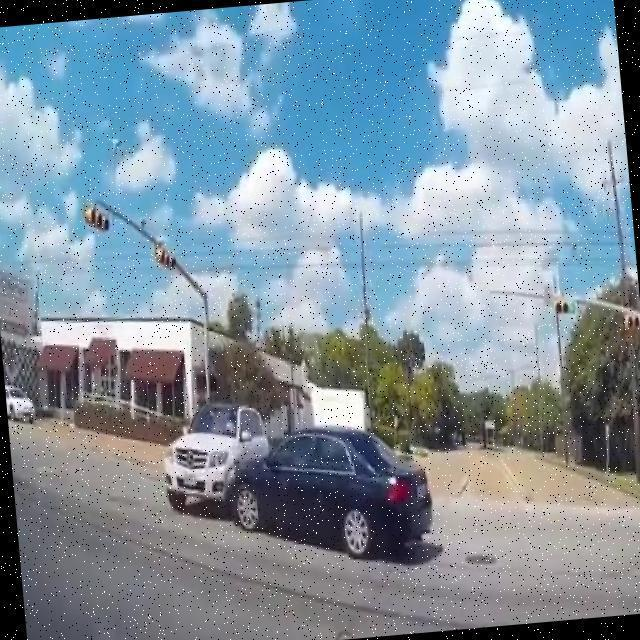accident: (172, 429, 326, 538)
